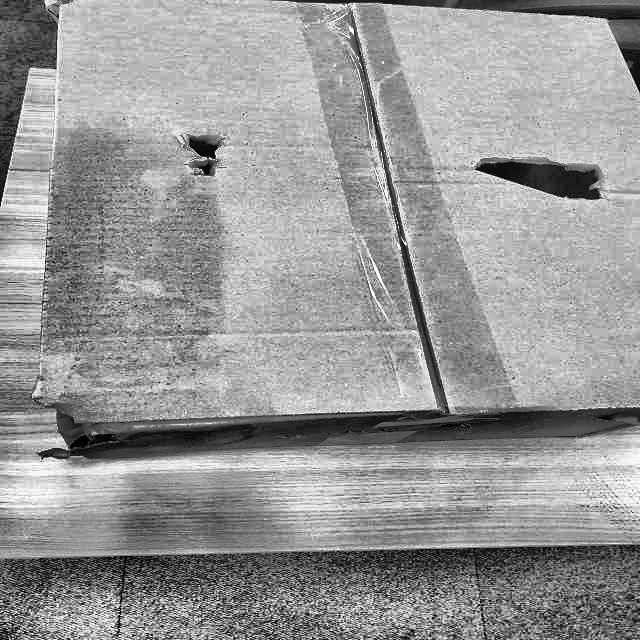box: (28, 0, 639, 474)
hole: (473, 150, 611, 202), (173, 118, 231, 182)
